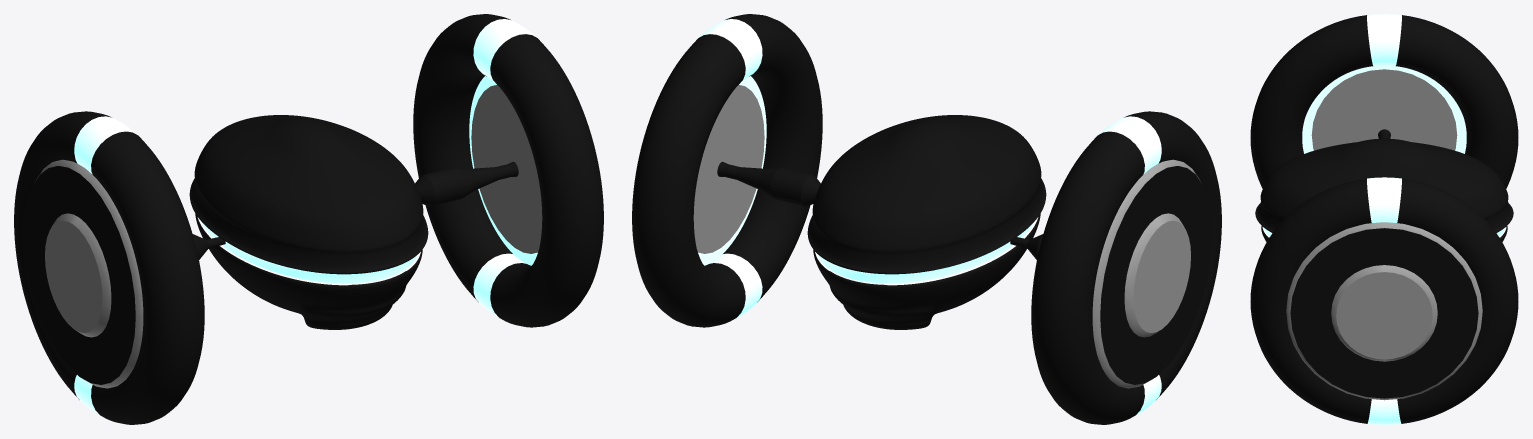
Rendered from Bot V2.fbx.
The picture shows the model from 3 angles, left to right: view 1: azimuth 30°, elevation 25°; view 2: azimuth 150°, elevation 25°; view 3: azimuth 270°, elevation 25°; orthographic projection. The views are drawn at different scales.
Visible parts, largest first — view 1: Body, Rubber.001, Rubber, RIght Tyre, Left Tyre, Shaft; view 2: Body, Rubber.001, Rubber, RIght Tyre, Left Tyre, Shaft; view 3: Left Tyre, Rubber.001, Rubber, Body, RIght Tyre.
Boxes of the visible parts, box(x1,y1,x2,y2) form: Body: box(189, 115, 428, 329); Rubber.001: box(413, 14, 603, 327); Rubber: box(14, 111, 204, 424); RIght Tyre: box(23, 159, 143, 388); Left Tyre: box(469, 76, 542, 265); Shaft: box(192, 161, 518, 259); Body: box(807, 115, 1046, 329); Rubber.001: box(632, 14, 822, 327); Rubber: box(1031, 111, 1221, 424); RIght Tyre: box(1092, 159, 1212, 388); Left Tyre: box(693, 76, 766, 265); Shaft: box(717, 161, 1043, 259); Left Tyre: box(1286, 222, 1482, 400); Rubber.001: box(1250, 177, 1518, 424); Rubber: box(1250, 14, 1518, 188); Body: box(1255, 138, 1513, 241); RIght Tyre: box(1302, 65, 1466, 153).
Size of the model in its own units: 420 by 247 by 247.
